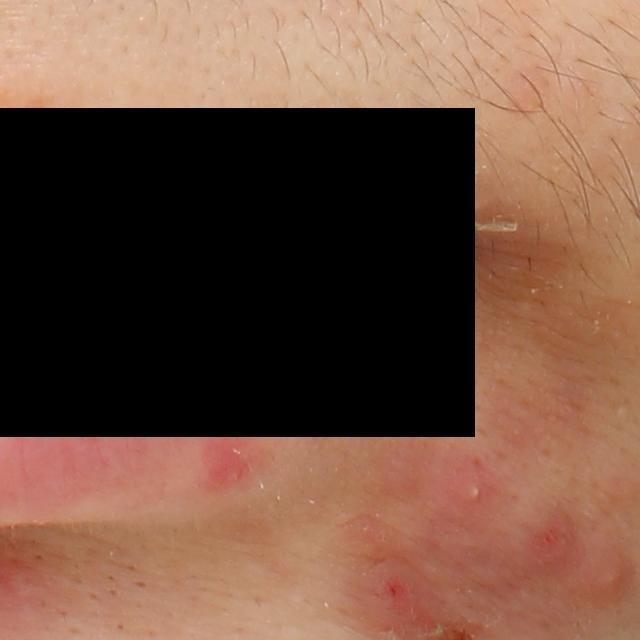papule: (200, 437, 268, 497), (523, 515, 585, 574), (583, 548, 635, 606), (344, 513, 397, 559)
